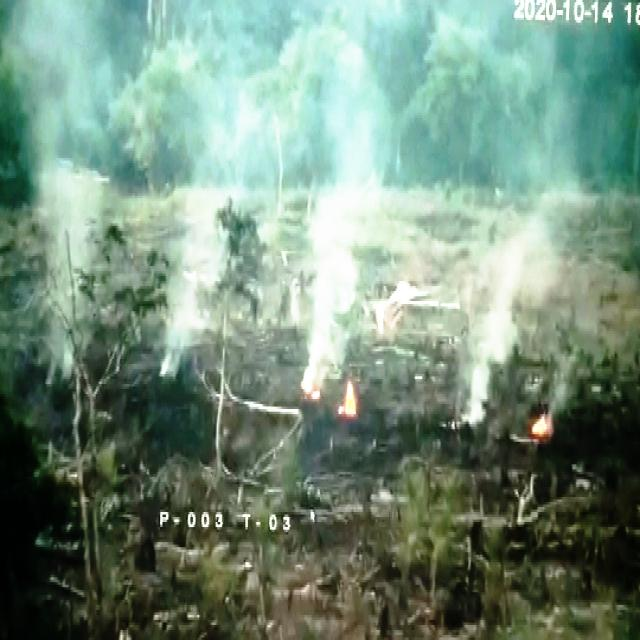asap: (421, 1, 597, 440), (127, 1, 255, 393), (281, 1, 386, 430), (6, 1, 108, 398)
